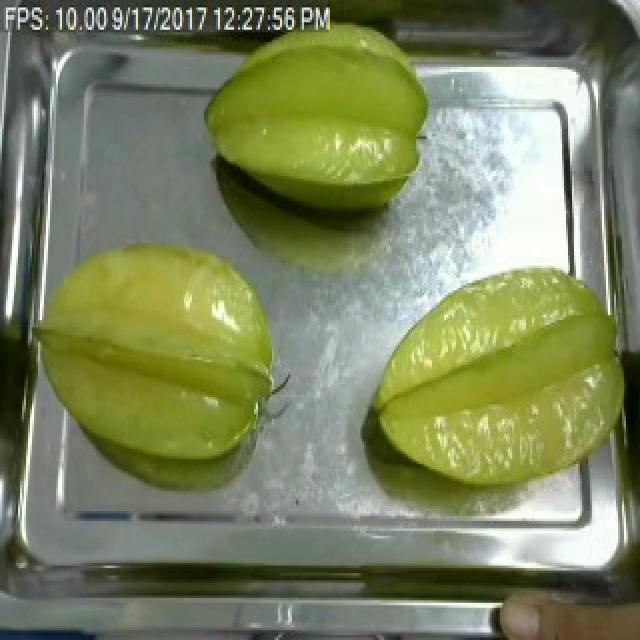fruit: (360, 258, 638, 499), (20, 231, 288, 474), (192, 15, 436, 201), (486, 568, 640, 640)
